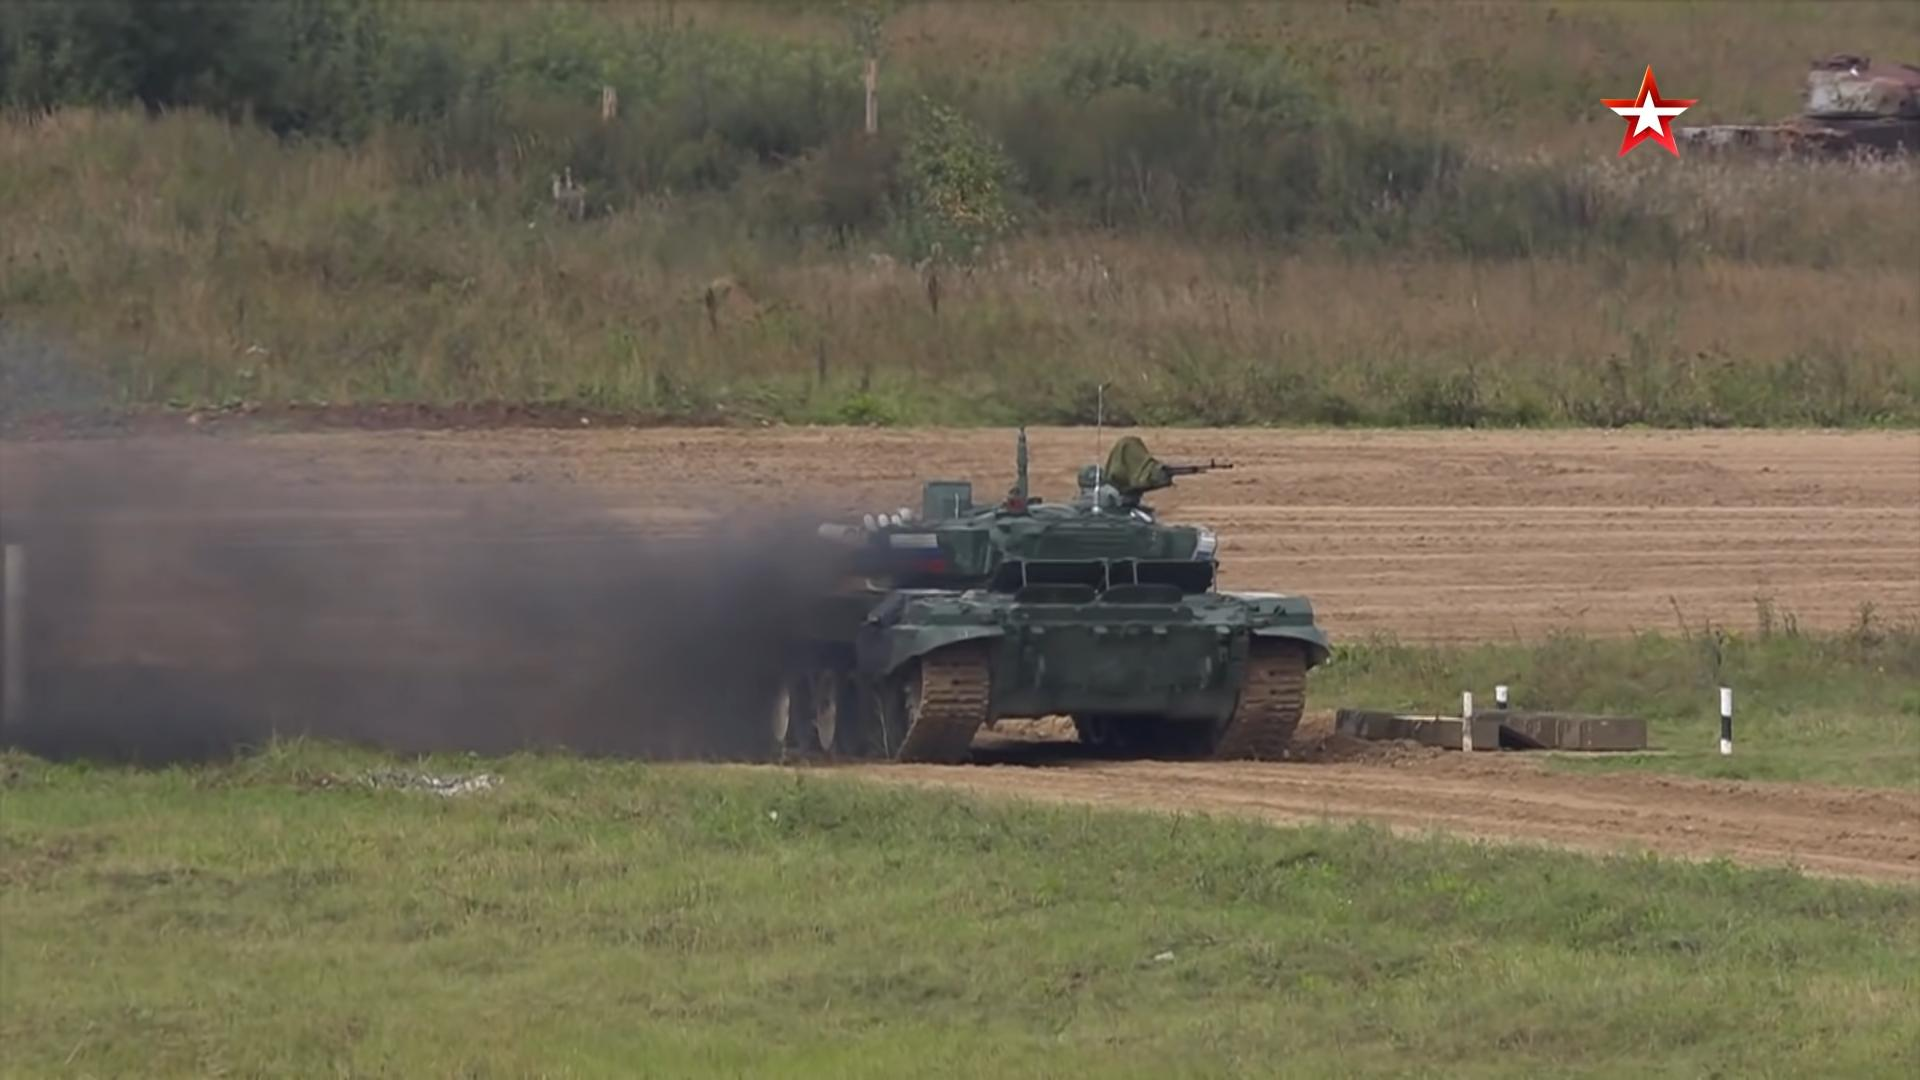tank: (728, 381, 1329, 762), (1671, 50, 1919, 161)
